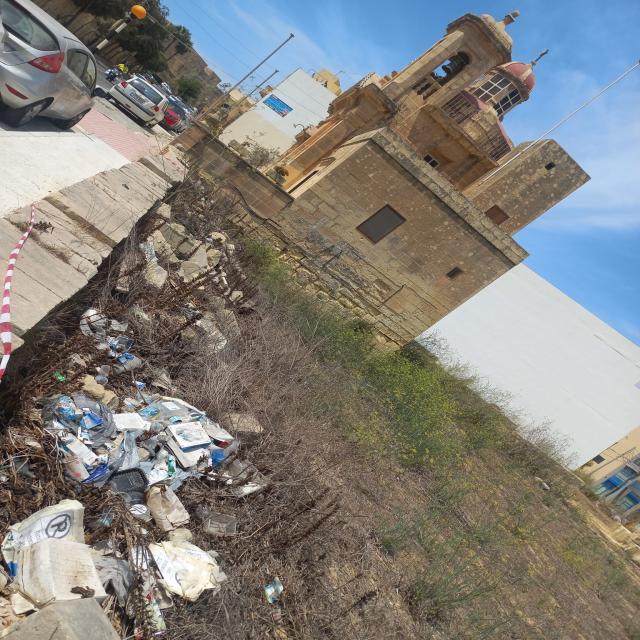Bottle: (199, 230, 206, 238)
Carton: (0, 498, 110, 630)
Cup: (97, 365, 110, 377), (95, 375, 108, 385)
Other litter: (38, 392, 273, 532), (89, 539, 230, 640), (71, 308, 143, 373), (0, 458, 36, 485), (168, 528, 194, 540), (533, 476, 551, 490)
Other plastic: (0, 202, 33, 385), (138, 242, 159, 264), (195, 507, 212, 519), (52, 372, 66, 383), (131, 380, 146, 390), (206, 238, 213, 242)
Plastic bag - wrapper: (263, 577, 284, 604)
Plastic container: (202, 512, 237, 537)
Styrofoam piece: (111, 413, 145, 431)
